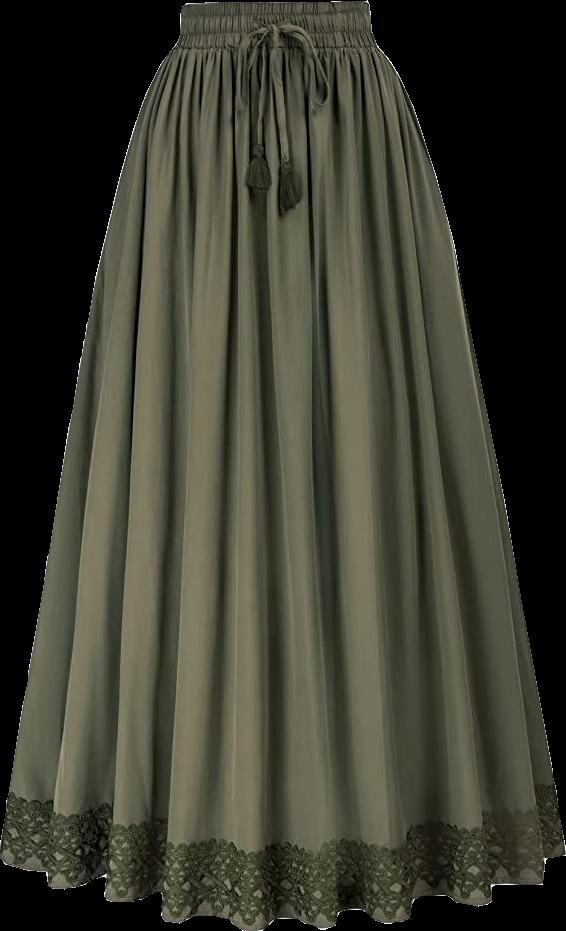Hemline: (0, 850, 565, 930)
Waistline: (169, 41, 381, 61), (178, 0, 377, 13)
